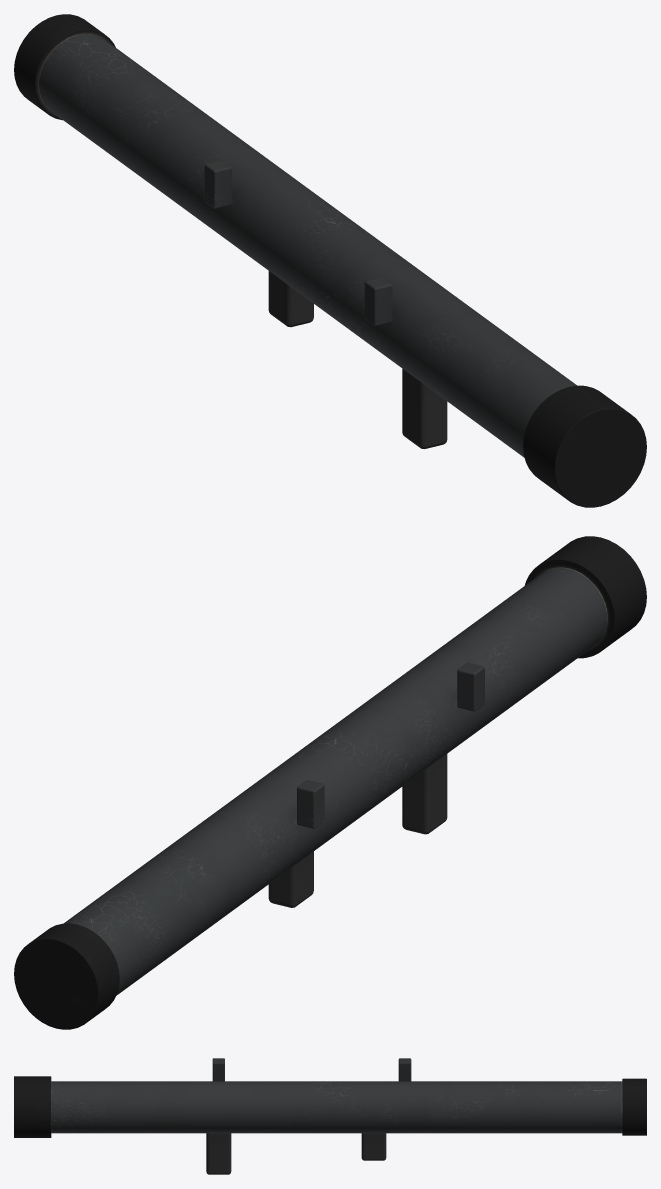
3 renders of one model, top to bottom at view 1: azimuth 30°, elevation 25°; view 2: azimuth 150°, elevation 25°; view 3: azimuth 270°, elevation 25°, orthographic. The views are drawn at different scales.
Visible parts, largest first — view 1: Frame; view 2: Frame; view 3: Frame.
Part boxes in pixels (x1,y1,x2,y2): Frame: [14, 14, 646, 507]; Frame: [14, 536, 646, 1029]; Frame: [14, 1058, 646, 1174].
Size of the model in its own units: 0.11 by 0.175 by 1.02.
4 materials, 4 textured.
